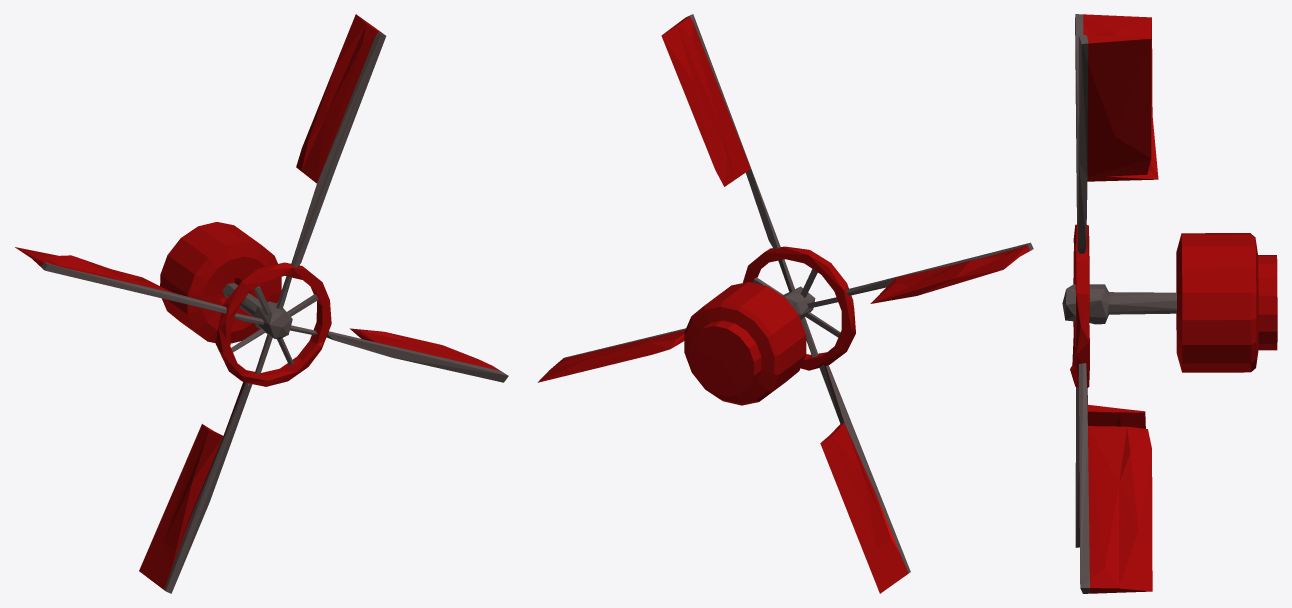
File: ENV_Windomill_01_4side.fbx
3 renders of one model, left to right at view 1: azimuth 30°, elevation 25°; view 2: azimuth 150°, elevation 25°; view 3: azimuth 270°, elevation 25°, orthographic. The views are drawn at different scales.
Visible parts, largest first — view 1: ENV_WindMill_02; view 2: ENV_WindMill_02; view 3: ENV_WindMill_02.
Part boxes in pixels (<box>): ENV_WindMill_02: <box>15,14,508,593</box>; ENV_WindMill_02: <box>537,14,1033,593</box>; ENV_WindMill_02: <box>1062,14,1277,593</box>.
Bounding box in the file's own units: 2654 × 2759 × 836.
